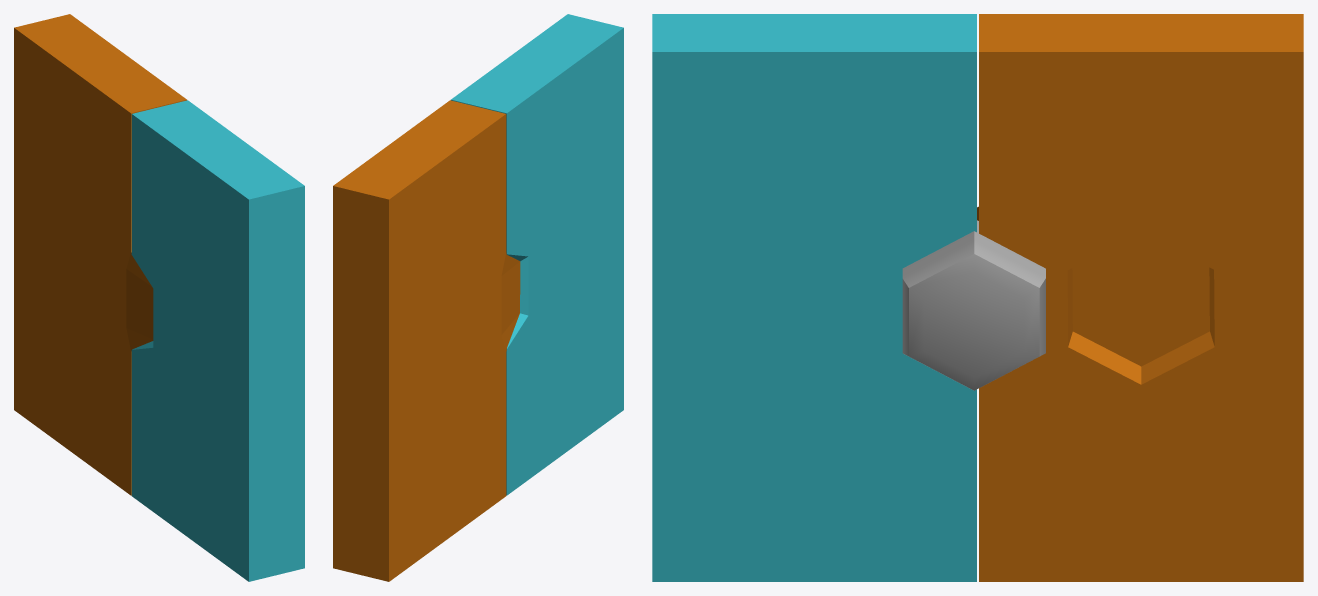
Rendered from door.fbx.
3 views of the same model, side by side, from view 1: azimuth 30°, elevation 25°; view 2: azimuth 150°, elevation 25°; view 3: azimuth 270°, elevation 25° (orthographic). The views are drawn at different scales.
Parts seen in each view (by area): view 1: door_L, door_R; view 2: door_R, door_L; view 3: door_R, door_L, lock.
Boxes of the visible parts, x1=… form: door_L: x1=131, y1=100, x2=304, y2=581; door_R: x1=14, y1=14, x2=186, y2=495; door_R: x1=333, y1=100, x2=520, y2=581; door_L: x1=451, y1=14, x2=623, y2=495; door_R: x1=977, y1=14, x2=1303, y2=581; door_L: x1=652, y1=14, x2=976, y2=581; lock: x1=902, y1=220, x2=1045, y2=390.
Bounding box in the file's own units: 62.25 × 271 × 301.
